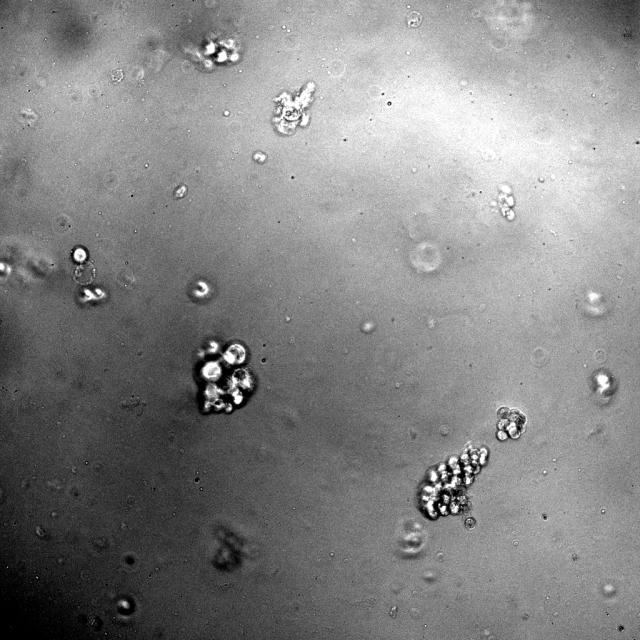organoid: (416, 443, 488, 530), (194, 339, 257, 413), (272, 81, 315, 135), (183, 32, 241, 72), (70, 244, 96, 284), (589, 367, 617, 403), (497, 406, 526, 440), (186, 276, 217, 303), (76, 283, 108, 307), (498, 184, 515, 221), (406, 10, 422, 28), (173, 183, 188, 199), (252, 150, 268, 163)
